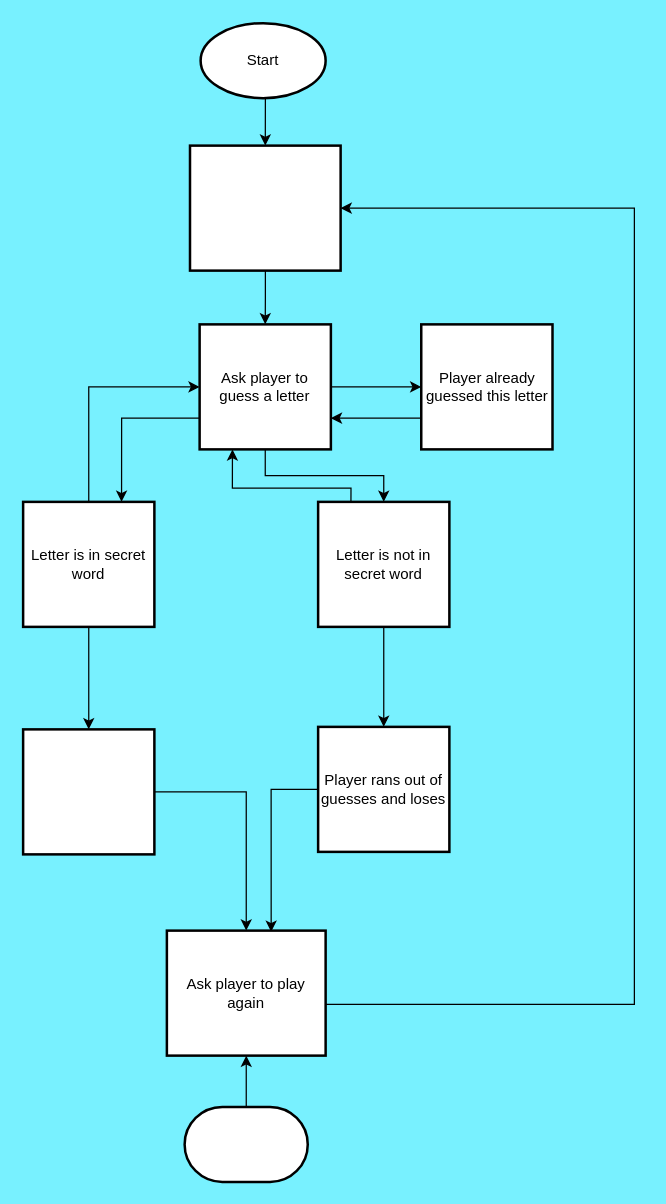
This 666x1204 diagram has some shape labels left out. The box of each missing label's shape, as (x1, y1, x2, y2) in pixels:
Come up with a sedret word: (188, 144, 341, 271)
End Game: (183, 1105, 308, 1182)
Player guessed all letters and wins: (21, 728, 155, 855)
